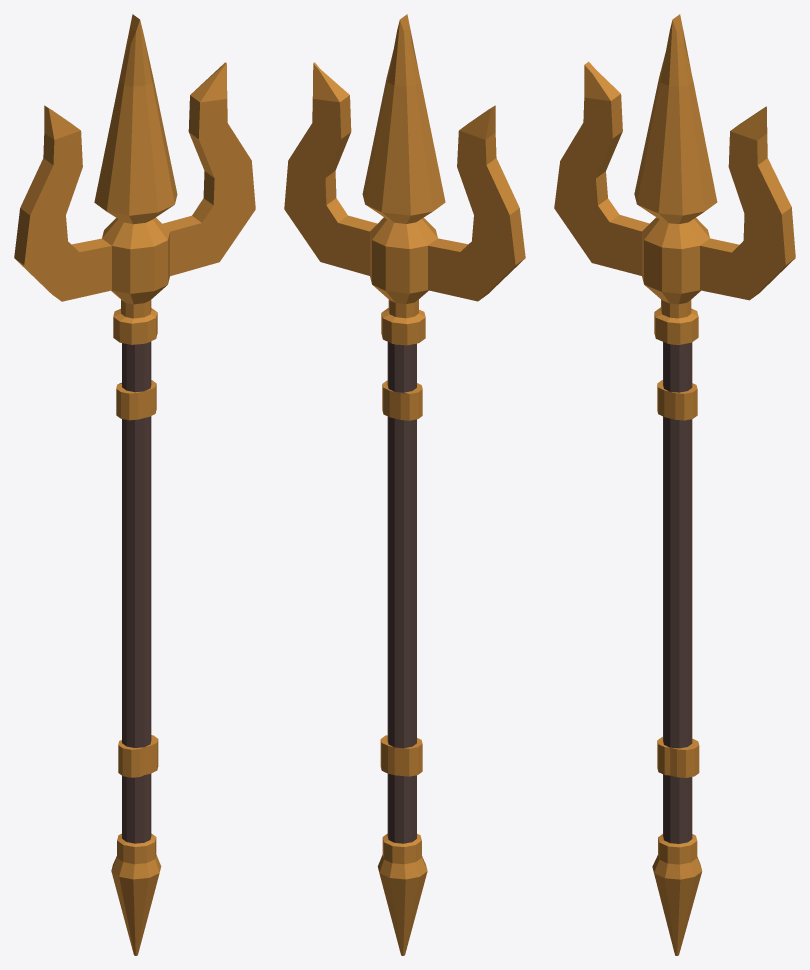
The model's file is tridente.glb.
The picture shows the model from 3 angles, left to right: view 1: azimuth 30°, elevation 25°; view 2: azimuth 150°, elevation 25°; view 3: azimuth 330°, elevation 25°; orthographic projection.
Parts seen in each view (by area): view 1: Trishula; view 2: Trishula; view 3: Trishula.
Part boxes in pixels (<box>): Trishula: <box>14,14,255,955</box>; Trishula: <box>284,14,525,955</box>; Trishula: <box>554,14,795,955</box>.
Bounding box in the file's own units: 2.19 × 8.49 × 0.6521.
